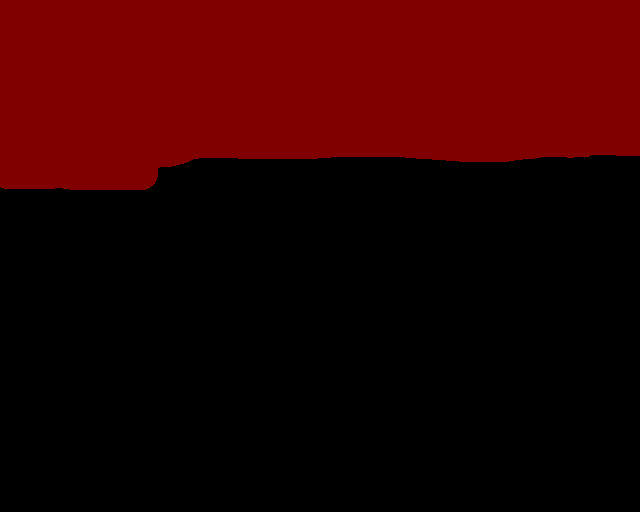Sky: (1, 1, 639, 190)
